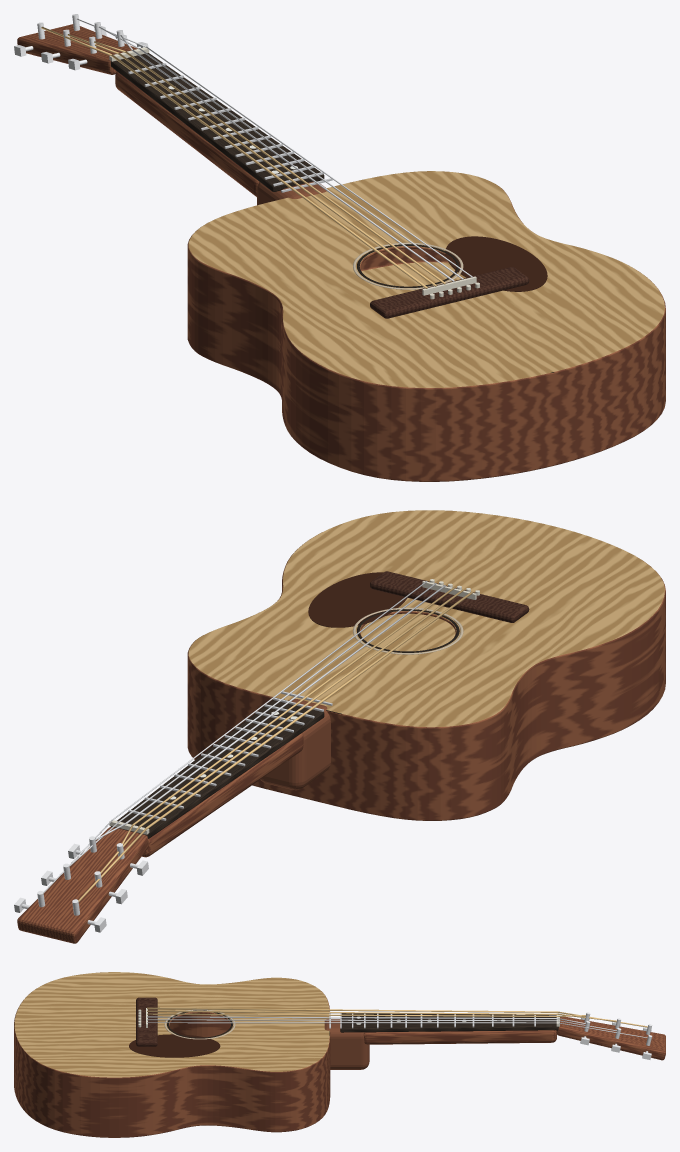
The model's file is guitar.glb.
3 renders of one model, top to bottom at view 1: azimuth 30°, elevation 25°; view 2: azimuth 150°, elevation 25°; view 3: azimuth 270°, elevation 25°, orthographic. The views are drawn at different scales.
Visible parts, largest first — view 1: body, fretboard, pickguard, bridge, neck, headstock, tuners, string_0, string_1, string_2, string_3, string_4 (+2 smaller); view 2: body, headstock, fretboard, pickguard, neck, bridge, heel, tuners, string_0, string_1, string_2, string_3 (+2 smaller); view 3: body, fretboard, neck, headstock, heel, pickguard, bridge, string_0, string_1, string_2, string_5, string_3 (+2 smaller).
Boxes of the visible parts, x1=… form: body: x1=187, y1=171, x2=665, y2=481; fretboard: x1=110, y1=53, x2=324, y2=191; pickguard: x1=445, y1=236, x2=547, y2=291; bridge: x1=370, y1=267, x2=529, y2=318; neck: x1=115, y1=71, x2=259, y2=196; headstock: x1=17, y1=24, x2=137, y2=74; tuners: x1=14, y1=14, x2=148, y2=70; string_0: x1=111, y1=54, x2=427, y2=288; string_1: x1=118, y1=53, x2=436, y2=286; string_2: x1=125, y1=51, x2=445, y2=284; string_3: x1=132, y1=50, x2=454, y2=281; string_4: x1=139, y1=48, x2=463, y2=279; body: x1=187, y1=510, x2=665, y2=820; headstock: x1=17, y1=827, x2=148, y2=943; fretboard: x1=110, y1=700, x2=324, y2=838; pickguard: x1=308, y1=572, x2=407, y2=627; neck: x1=142, y1=733, x2=303, y2=857; bridge: x1=370, y1=571, x2=529, y2=622; heel: x1=260, y1=699, x2=330, y2=790; tuners: x1=14, y1=836, x2=148, y2=932; string_0: x1=146, y1=591, x2=473, y2=829; string_1: x1=139, y1=589, x2=463, y2=827; string_2: x1=132, y1=587, x2=454, y2=825; string_3: x1=125, y1=585, x2=445, y2=823; body: x1=14, y1=972, x2=330, y2=1137; fretboard: x1=340, y1=1013, x2=558, y2=1032; neck: x1=363, y1=1030, x2=556, y2=1044; headstock: x1=556, y1=1017, x2=665, y2=1060; heel: x1=324, y1=1019, x2=369, y2=1069; pickguard: x1=129, y1=1034, x2=220, y2=1057; bridge: x1=136, y1=997, x2=157, y2=1046; string_0: x1=147, y1=1007, x2=558, y2=1012; string_1: x1=147, y1=1010, x2=558, y2=1014; string_2: x1=147, y1=1013, x2=558, y2=1016; string_5: x1=147, y1=1022, x2=557, y2=1023; string_3: x1=147, y1=1016, x2=558, y2=1019.
Size of the model in its own units: 0.395 by 0.1222 by 1.03.
Materials: 16 (6 with a texture image).
